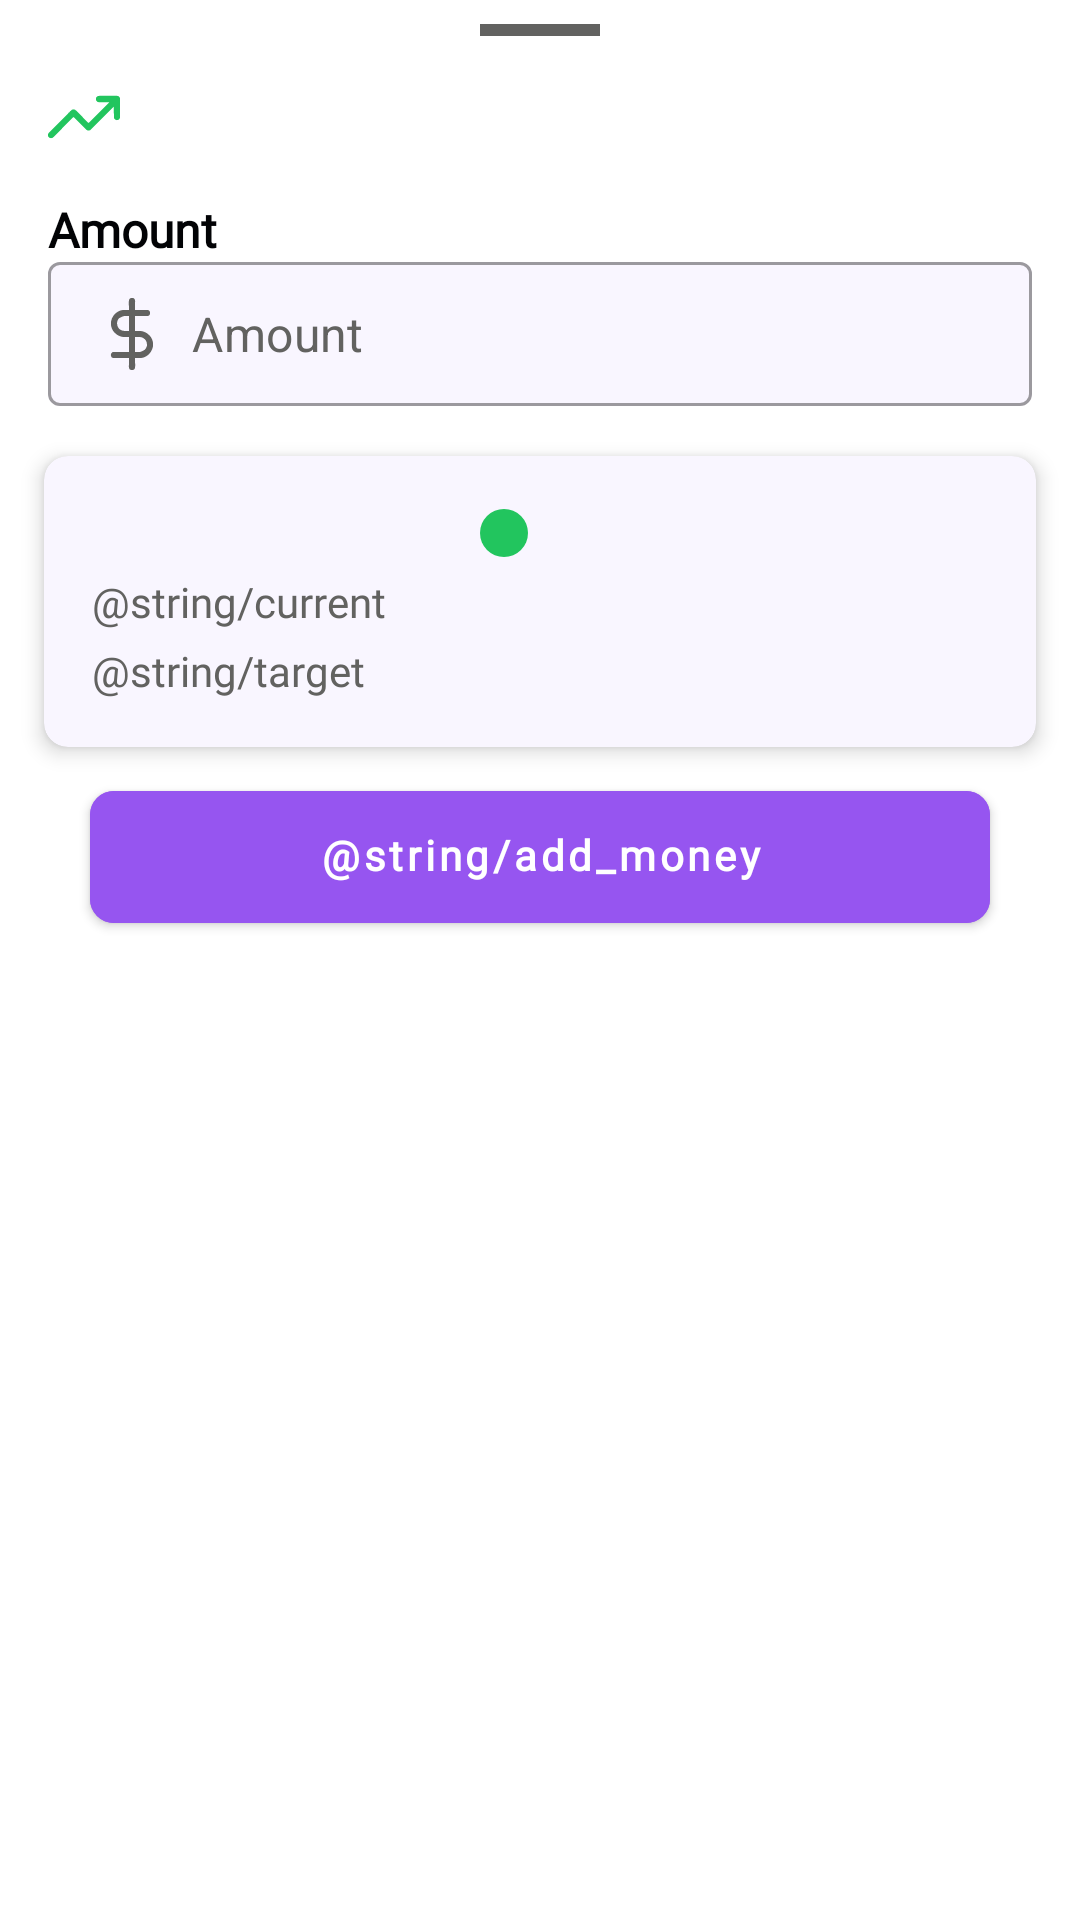

Named icons in this screenshot (1080x1920) and their bounding boxes, (x1,y1,x2,y2):
trend: (48,95,120,138)
